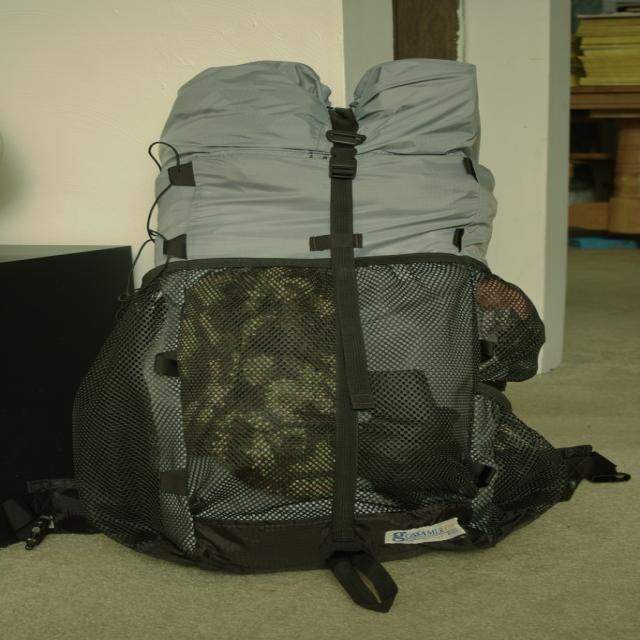backpack: (76, 60, 586, 559)
